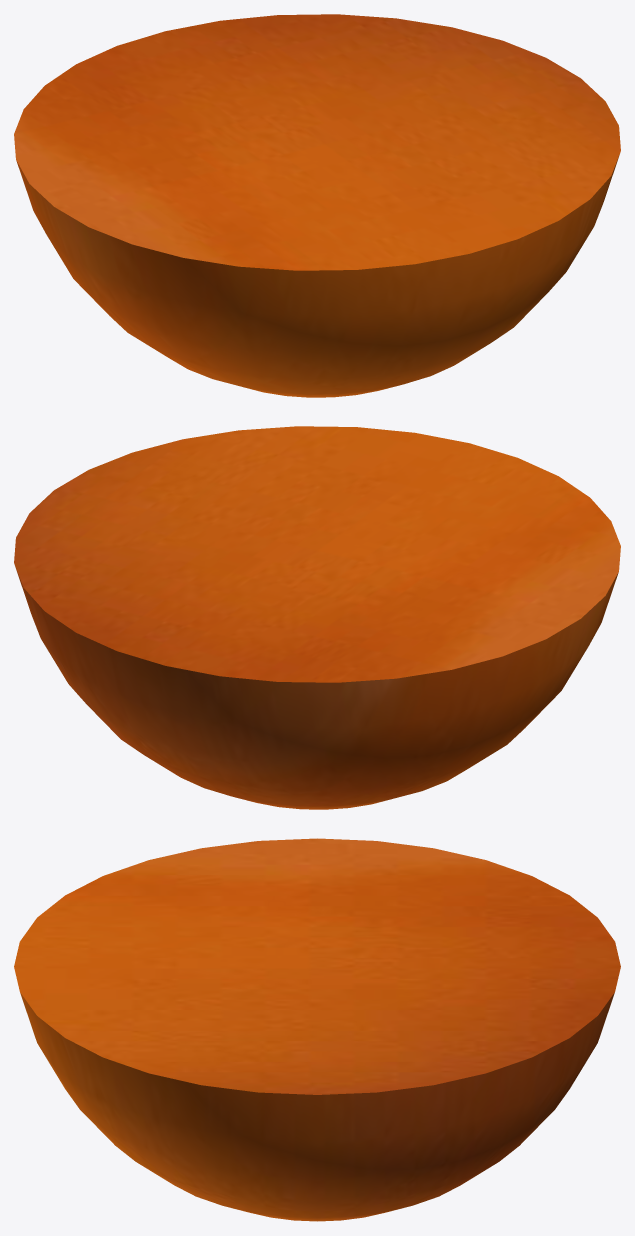
File: fish_sauce_liquid.fbx
The picture shows the model from 3 angles, top to bottom: view 1: azimuth 30°, elevation 25°; view 2: azimuth 150°, elevation 25°; view 3: azimuth 270°, elevation 25°; orthographic projection.
Visible parts, largest first — view 1: fish_sauce_liquid; view 2: fish_sauce_liquid; view 3: fish_sauce_liquid.
Boxes of the visible parts, <box> form: fish_sauce_liquid: <box>14,14,620,397</box>; fish_sauce_liquid: <box>14,426,620,809</box>; fish_sauce_liquid: <box>14,838,620,1221</box>.
Bounding box in the file's own units: 13.8 × 5.1 × 13.8.
Materials: 1 (1 with a texture image).
